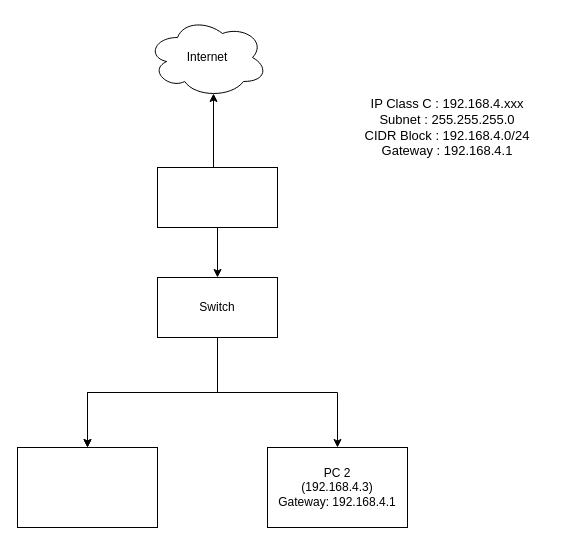
Some shapes in this 575 by 545 pixel diagram are drawn without their labels. Each missing label, with the box of its shape:
PC 1 (192.168.4.2) Gateway: 192.168.4.1: (16, 446, 158, 528)
Router (192.168.4.1): (156, 166, 278, 228)
